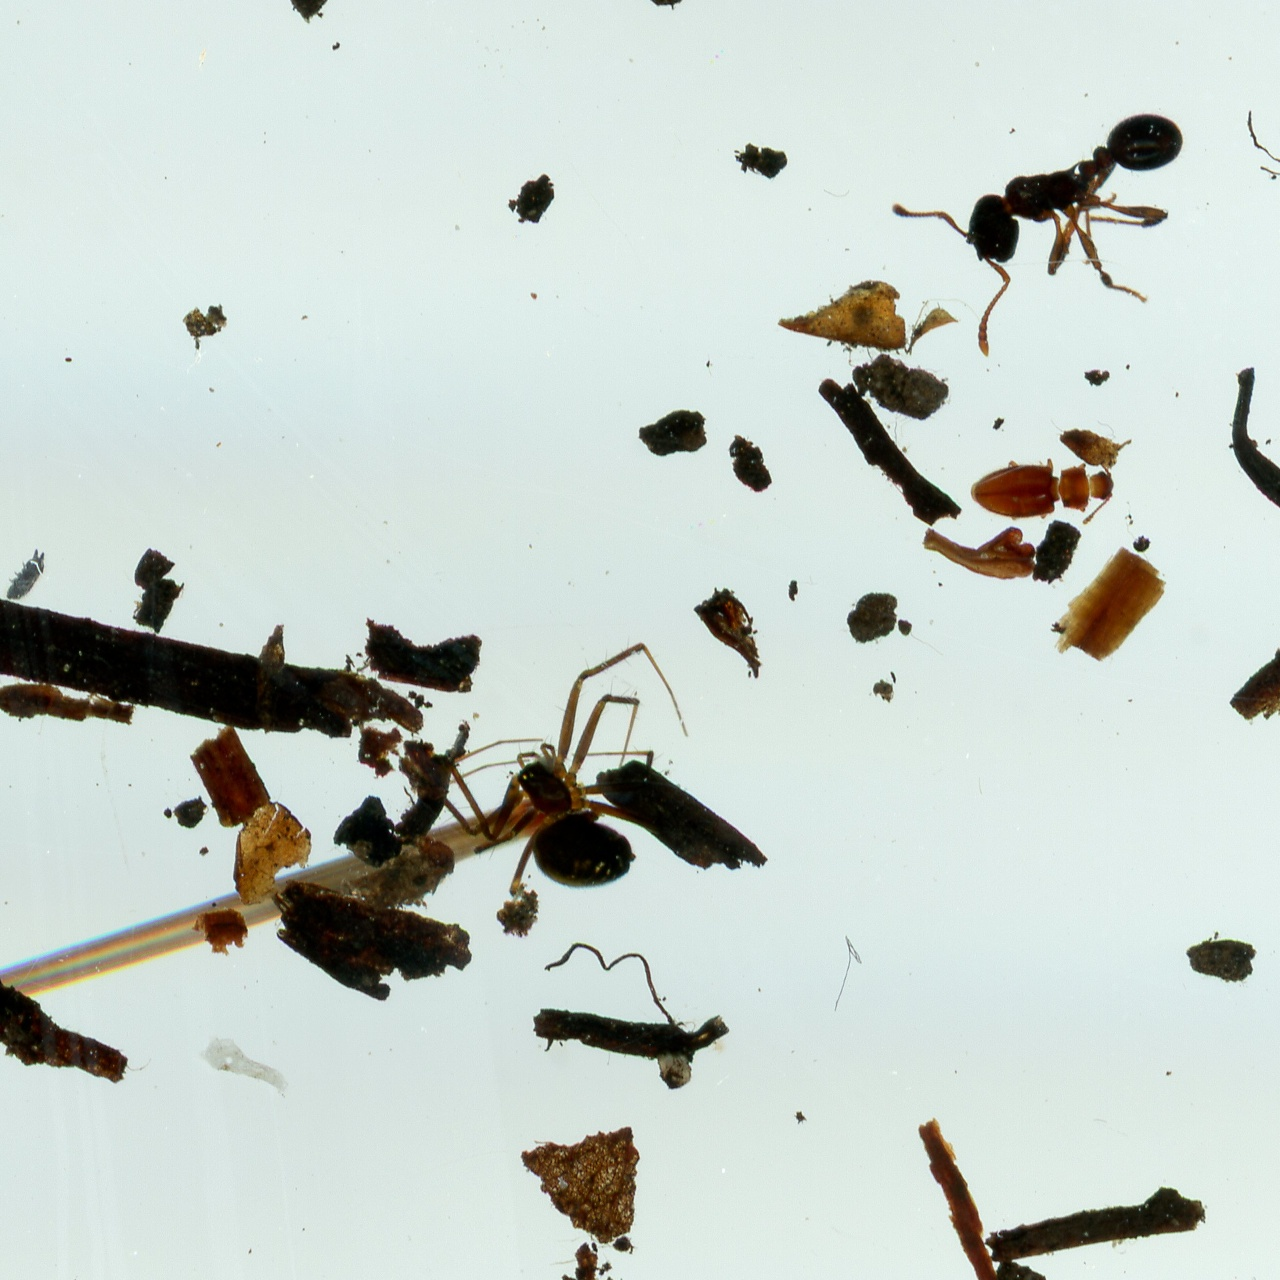arthropod: (397, 618, 750, 947), (882, 78, 1252, 389), (965, 453, 1117, 528), (0, 541, 55, 612)
